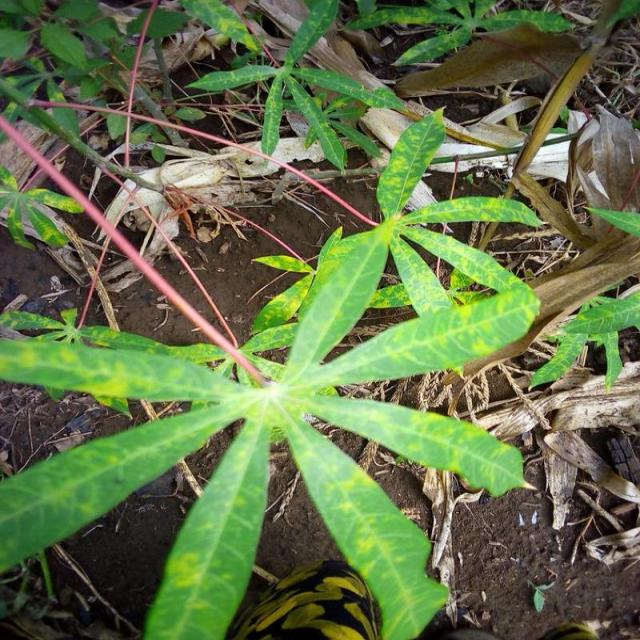cassava leaf: (2, 104, 543, 638)
